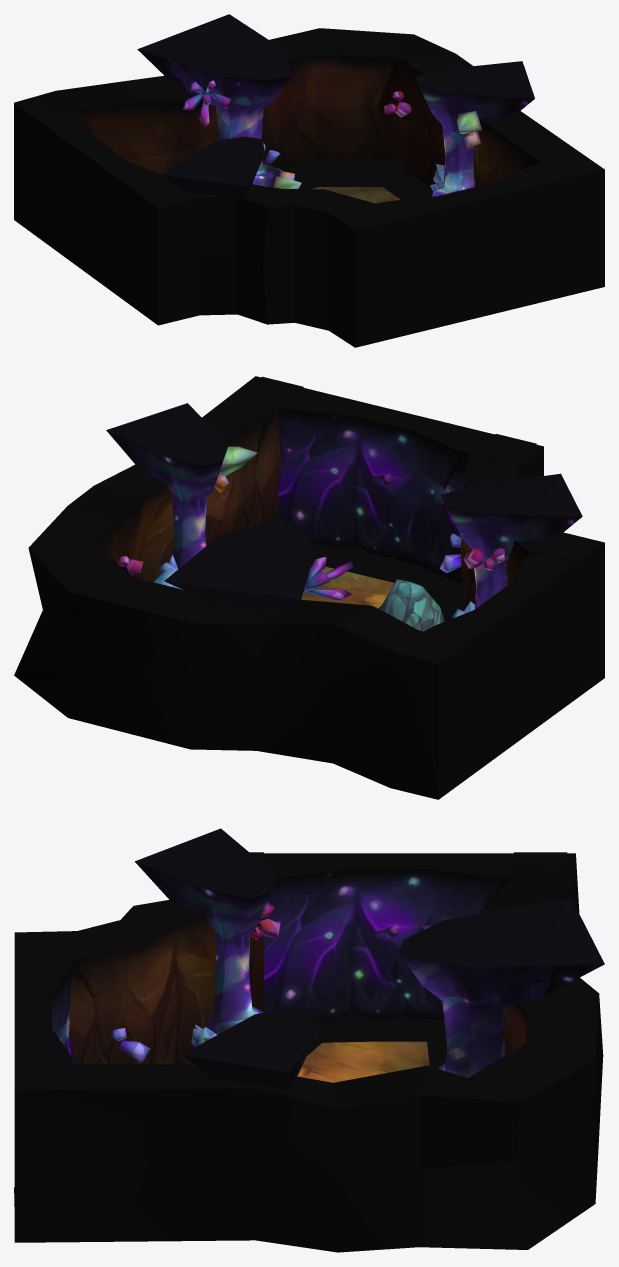
The model's file is Dungeon_101_RoadL_003.fbx.
The picture shows the model from 3 angles, top to bottom: view 1: azimuth 30°, elevation 25°; view 2: azimuth 150°, elevation 25°; view 3: azimuth 270°, elevation 25°; orthographic projection. The views are drawn at different scales.
Visible parts, largest first — view 1: Dan1, Dun_101_Door_002 (×2), Dun_101_RoadL_003, Dan1_shadow, Dan2; view 2: Dan1, Dun_101_Door_002 (×2), Dun_101_RoadL_003, Dun_011_Door_002_shadow, Dungeon_011_Object_012, Dan2, Dan1_shadow; view 3: Dan1, Dun_101_RoadL_003, Dun_101_Door_002 (×2), Dan2, Dun_011_Door_002_shadow, Dan1_shadow.
Part boxes in pixels (x1=…): Dan1: x1=14, y1=28, x2=604, y2=347; Dun_101_Door_002 (×2): x1=17, y1=99, x2=598, y2=337; Dun_101_RoadL_003: x1=137, y1=14, x2=534, y2=198; Dan1_shadow: x1=280, y1=159, x2=538, y2=304; Dan2: x1=312, y1=187, x2=400, y2=203; Dan1: x1=14, y1=376, x2=604, y2=799; Dun_101_Door_002 (×2): x1=236, y1=376, x2=600, y2=778; Dun_101_RoadL_003: x1=106, y1=403, x2=582, y2=618; Dun_011_Door_002_shadow: x1=323, y1=545, x2=430, y2=583; Dungeon_011_Object_012: x1=378, y1=579, x2=444, y2=631; Dan2: x1=301, y1=566, x2=394, y2=608; Dan1_shadow: x1=310, y1=544, x2=463, y2=621; Dan1: x1=14, y1=853, x2=603, y2=1252; Dun_101_RoadL_003: x1=110, y1=828, x2=604, y2=1090; Dun_101_Door_002 (×2): x1=14, y1=852, x2=567, y2=1085; Dan2: x1=297, y1=1041, x2=429, y2=1082; Dun_011_Door_002_shadow: x1=323, y1=1013, x2=428, y2=1042; Dan1_shadow: x1=14, y1=1018, x2=446, y2=1206.
Size of what is drawn, in the model's own units: 7.21 by 2.45 by 7.11.
